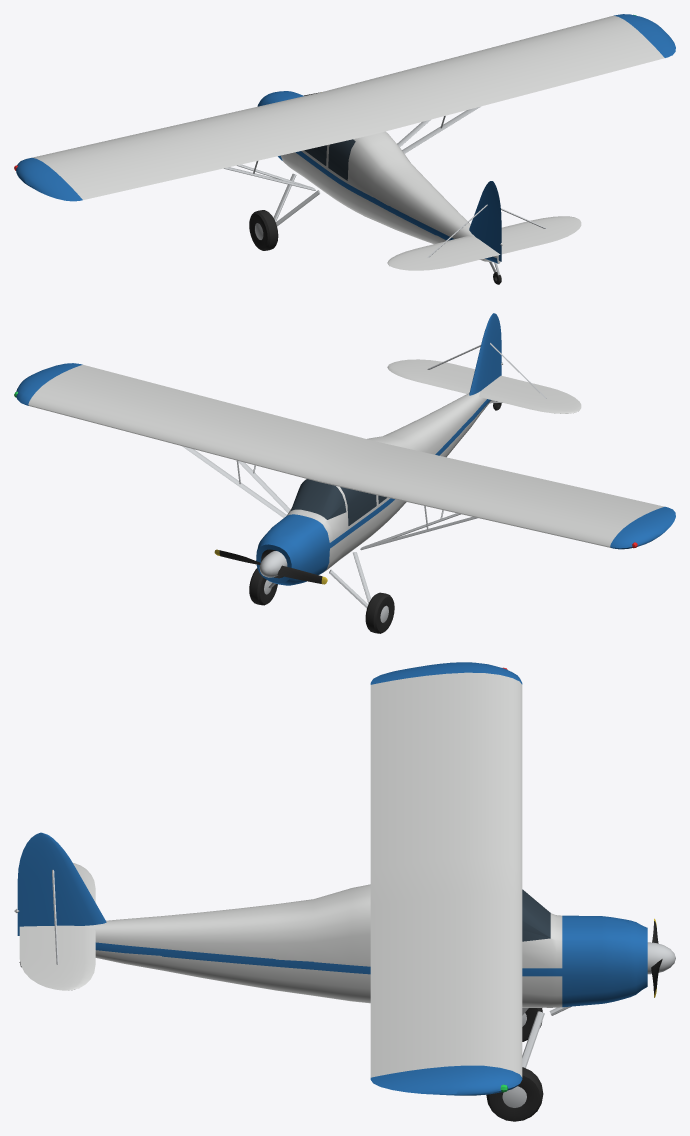
3 views of the same model, one above another, from view 1: azimuth 30°, elevation 25°; view 2: azimuth 150°, elevation 25°; view 3: azimuth 270°, elevation 25° (orthographic). The views are drawn at different scales.
Parts seen in each view (by area): view 1: plane; view 2: plane, prop; view 3: plane.
Boxes of the visible parts, bbox=[...] form: plane: bbox=[14, 14, 675, 284]; plane: bbox=[14, 313, 675, 633]; prop: bbox=[214, 549, 327, 584]; plane: bbox=[14, 662, 675, 1121].
Bounding box in the file's own units: 10.7 × 2.88 × 6.98.
